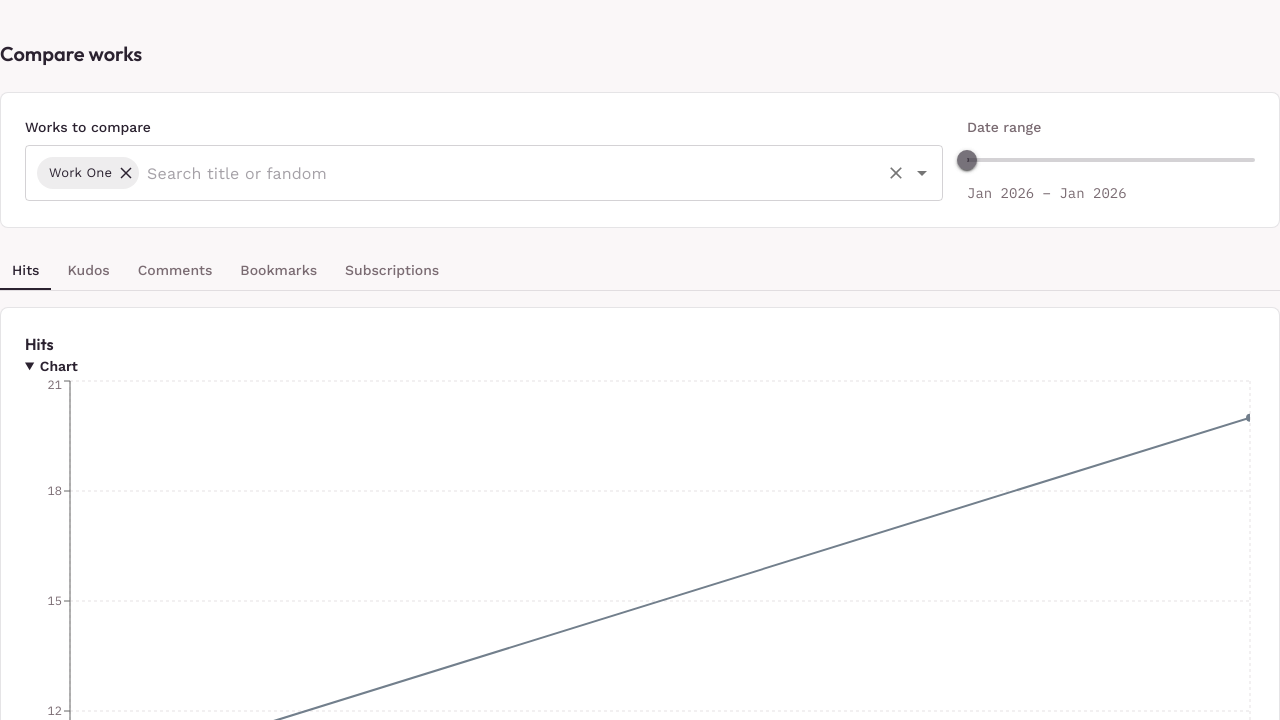
Test: WorkComparisonSection › renders the Hits chart by default; switching to the Kudos tab shows Kudos instead
Click the tab "Kudos".
click(89, 271)  # box [56,252,122,290]
(page scrolled)
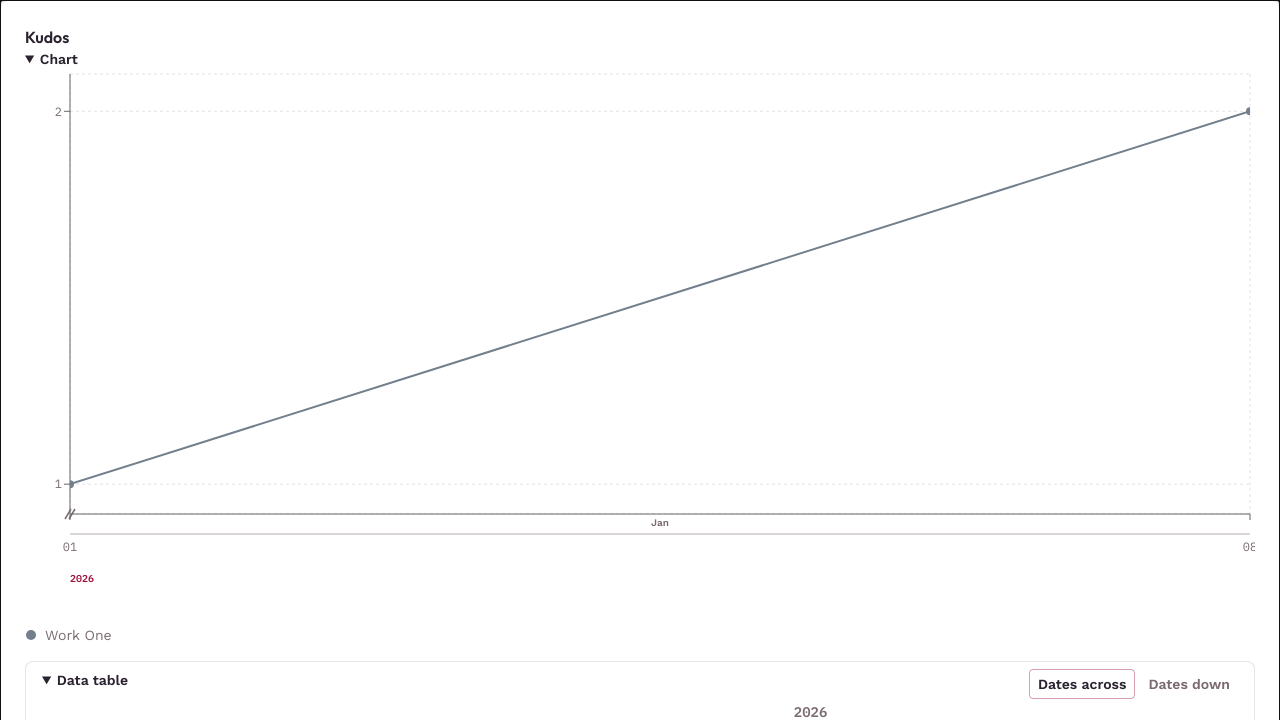
Now the tab "Hits" is gone
